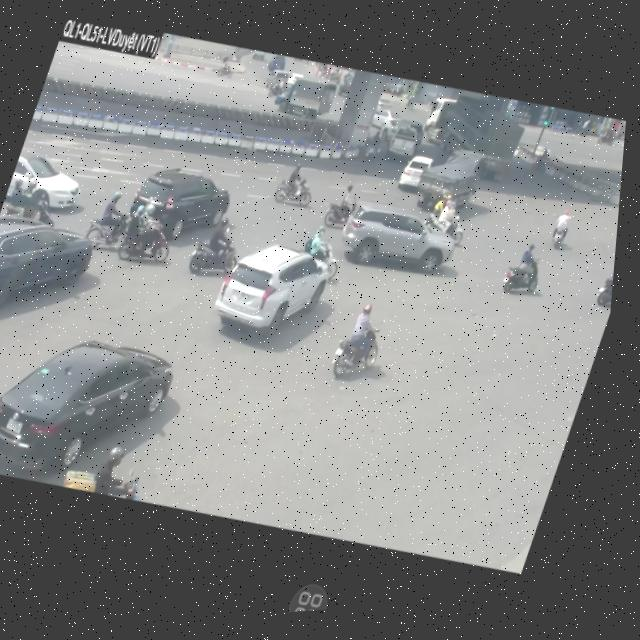Green: (544, 116, 557, 140)
